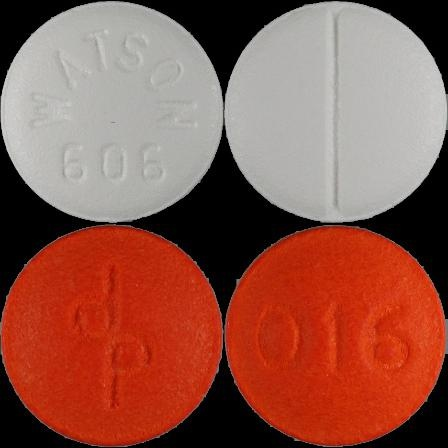21695-994: (0, 0, 224, 224)
